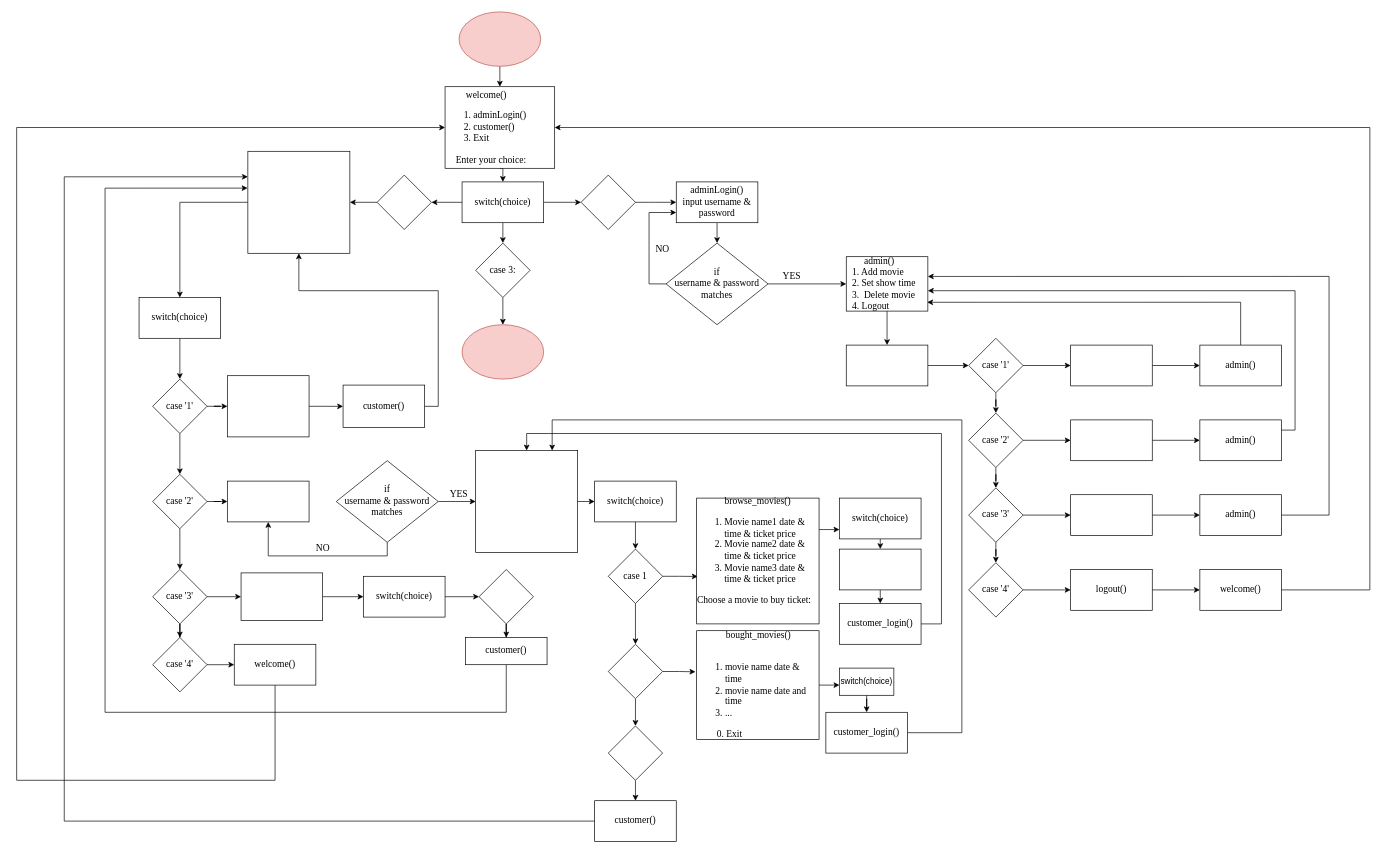
This 1387x853 diagram has some shape labels left out. The centre of each missing label's shape, as x and y in pixels:
"add_movie()" belongs at point 1111,365.
"browse_movies() movie name + date) 0. Exit" belongs at point 281,596.
"buy_ticket()" belongs at point 880,569.
"case 0" belongs at point 505,596.
"case 1:" belongs at point 607,202.
"case 2" belongs at point 635,671.
"case 2:" belongs at point 403,202.
"case 3" belongs at point 635,752.
"customer() Sign up Log in browse movies exit as customer" belongs at point 298,202.
"customer_login() Browse Movies to buy Your Movie List Log out" belongs at point 526,501.
"delete_movie()" belongs at point 1111,515.
"End" belongs at point 502,351.
"log_in() username password" belongs at point 268,501.
"set_show_time()" belongs at point 1111,440.
"sign_up() first name last name username password" belongs at point 268,406.
"Start" belongs at point 499,38.
"switch (choice)" belongs at point 887,365.
